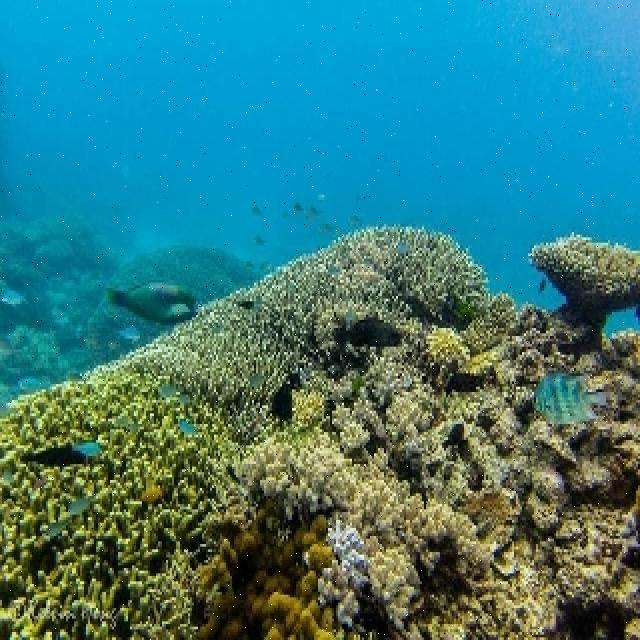fish: (106, 285, 196, 324)
reefs: (0, 223, 638, 637)
